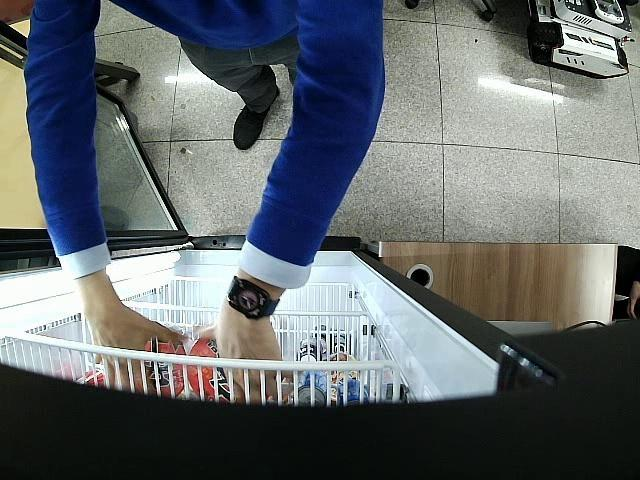01_ShinRamen_L: (184, 336, 238, 403), (144, 340, 183, 398)
